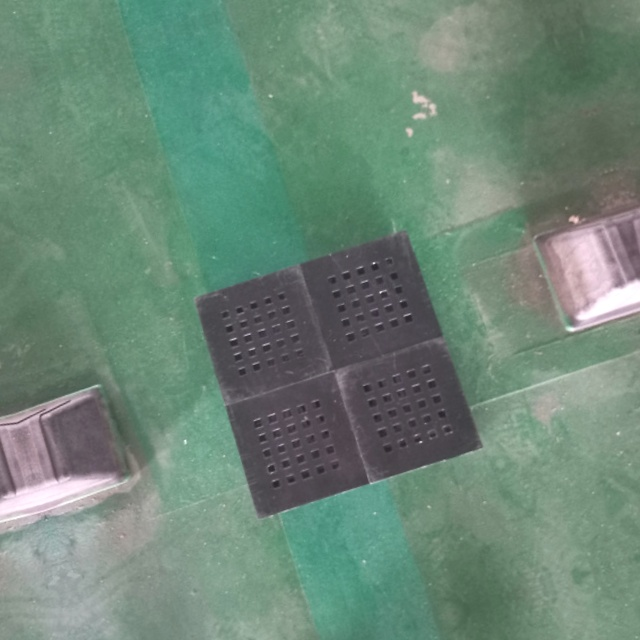pallet: (187, 223, 491, 526)
